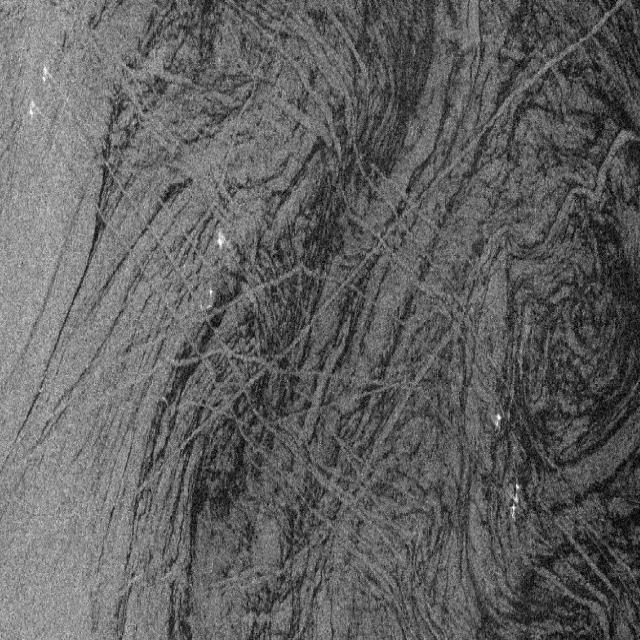look-alike: (178, 312, 469, 638), (481, 145, 640, 468), (290, 2, 464, 286), (88, 1, 264, 252)
